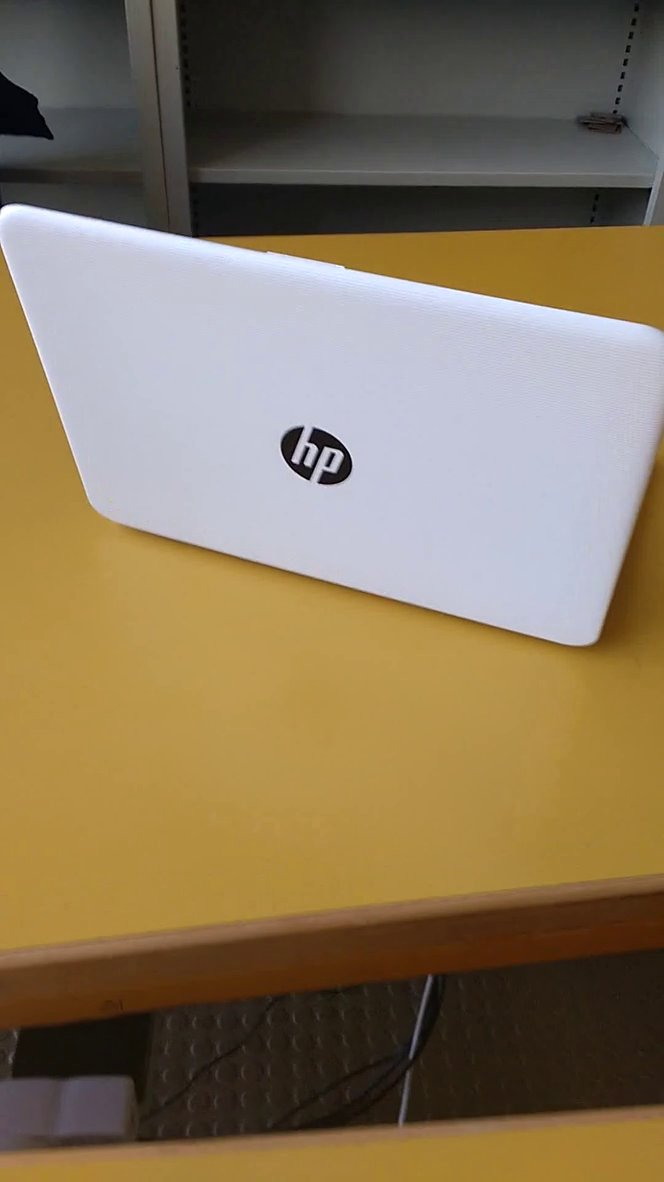laptop: (1, 189, 664, 671)
